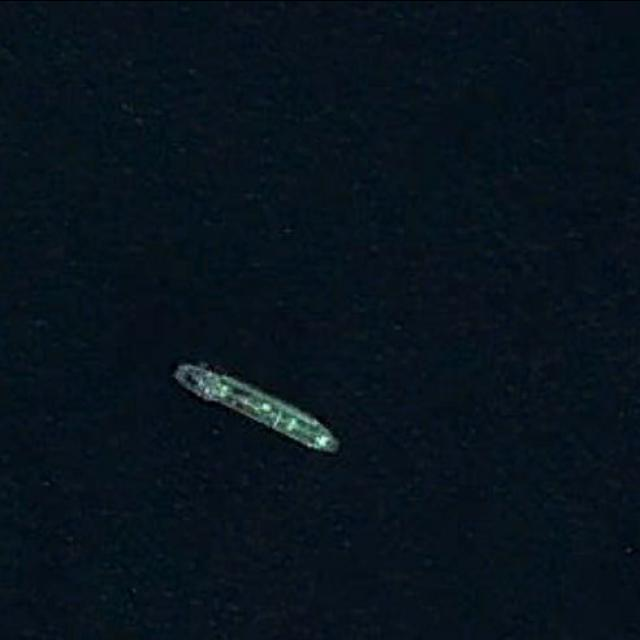ship: (173, 362, 342, 452)
